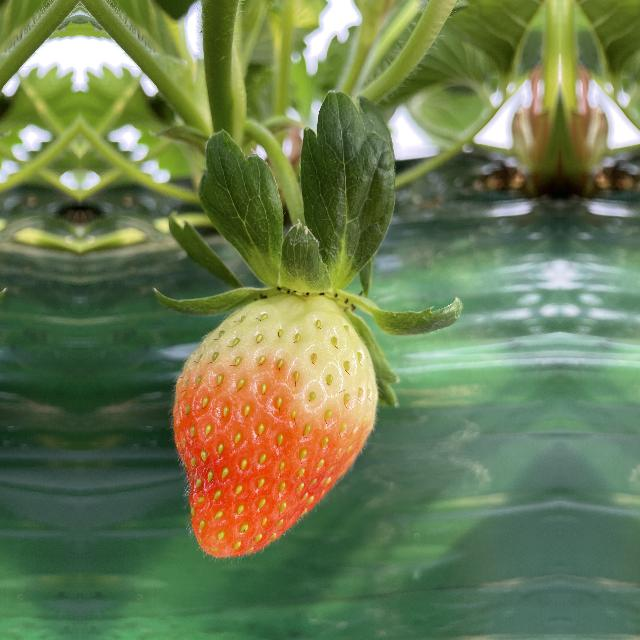Health_75: (170, 276, 390, 568)
